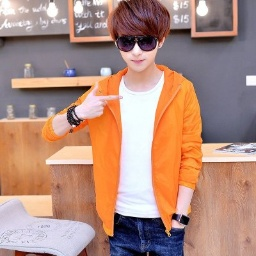face: (106, 1, 173, 71)
